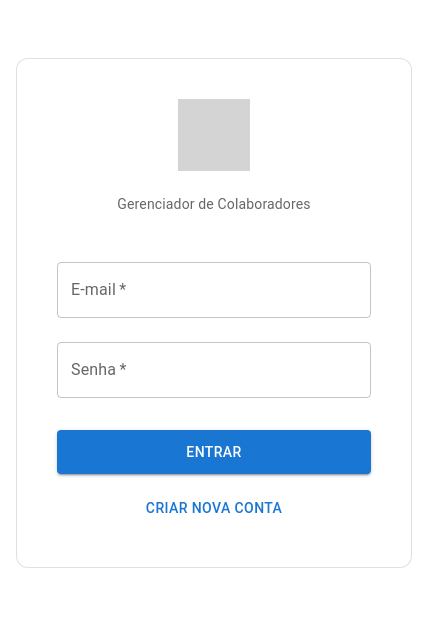
Test: Login Component › não vaza mensagem técnica no fallback de erro desconhecido
Type "user@example.com" into the field labelled "E-mail *". click: [214, 290]
box: [57, 262, 371, 318]
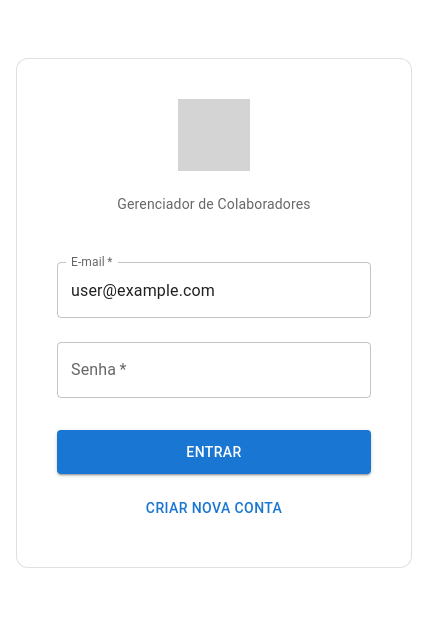
Type "password123" into the password field labelled "Senha *". click: [214, 370]
box: [57, 342, 371, 398]
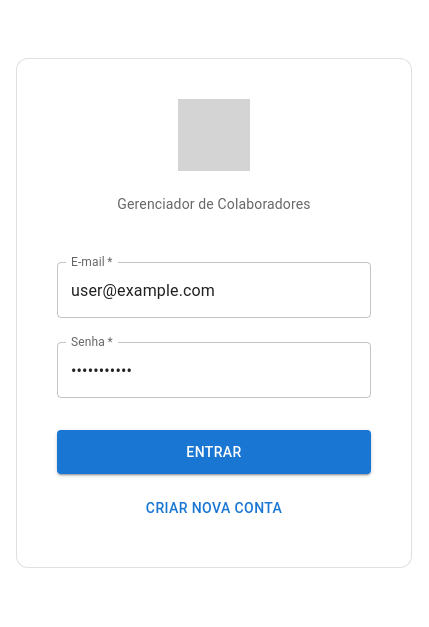
Click the button "Entrar". click: [214, 452]
box: [57, 430, 371, 474]
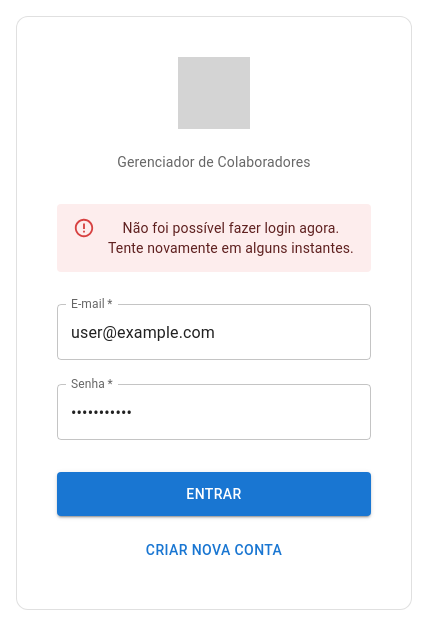
Check: the text "Não foi possível fazer login agora. Tente novamente em alguns instantes." is shown, box [107, 210, 355, 266]
